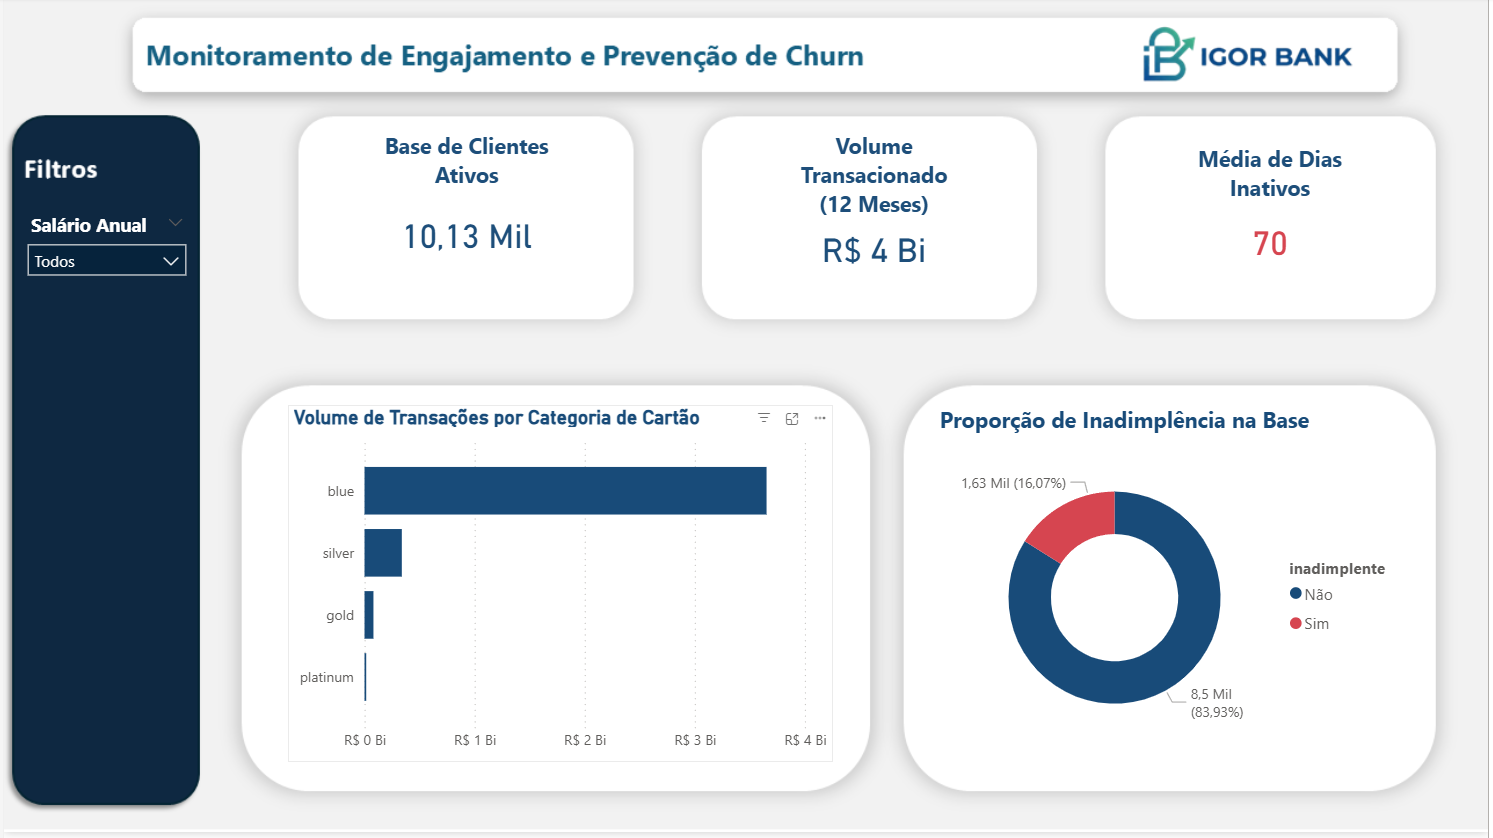

The dashboard page shown, as its layout file describes it:
{"tool":"powerbi","page":{"name":"Página 1","canvas":[1280,720],"ordinal":0},"visuals":[{"type":"card","title":"Base de Clientes Ativos","fields":{"Values":["CountNonNull(credito.id)"]},"box":[302.5,115.7,192.6,127.4],"z":0},{"type":"card","title":"Volume Transacionado (12 Meses)","fields":{"Values":["Sum(credito.valor_transacoes_12m)"]},"box":[674,115.7,153.7,126.4],"z":1000},{"type":"card","title":"Média de Dias Inativos","fields":{"Values":["Avg(credito.Dias Inativos)"]},"box":[994,126.4,196.5,116.7],"z":2000},{"type":"donutChart","title":"Proporção de Inadimplência na Base","fields":{"Category":["credito.inadimplente"],"Y":["CountNonNull(credito.id)"]},"box":[802.4,352.1,411.4,307.4],"z":3000},{"type":"clusteredBarChart","title":"Volume de Transações por Categoria de Cartão","fields":{"Category":["credito.tipo_cartao"],"Y":["Sum(credito.valor_transacoes_12m)"]},"box":[245.1,352.1,469.8,307.4],"z":4000},{"type":"slicer","fields":{"Values":["credito.salario_anual"]},"box":[10.7,179.9,156.6,150.8],"z":5000}]}

Visuals, with their boxes in screenshot pixels (x1, y1, x2, y2), scaled from the page's 1280x720 canvas onto the 1493x838 screenshot:
"Base de Clientes Ativos" card: 353, 135, 577, 283
"Volume Transacionado (12 Meses)" card: 786, 135, 965, 282
"Média de Dias Inativos" card: 1159, 147, 1389, 283
"Proporção de Inadimplência na Base" donutChart: 936, 410, 1416, 768
"Volume de Transações por Categoria de Cartão" clusteredBarChart: 286, 410, 834, 768
slicer - credito.salario_anual: 12, 209, 195, 385
